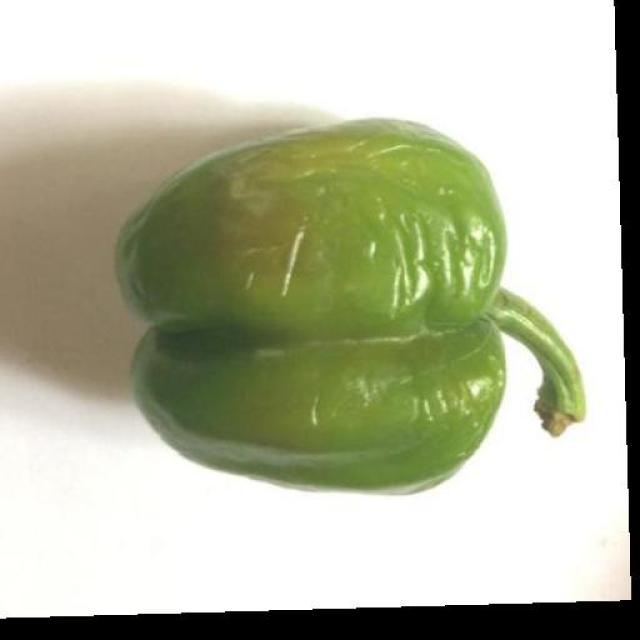Stale_Capsicum: (124, 122, 599, 512)
